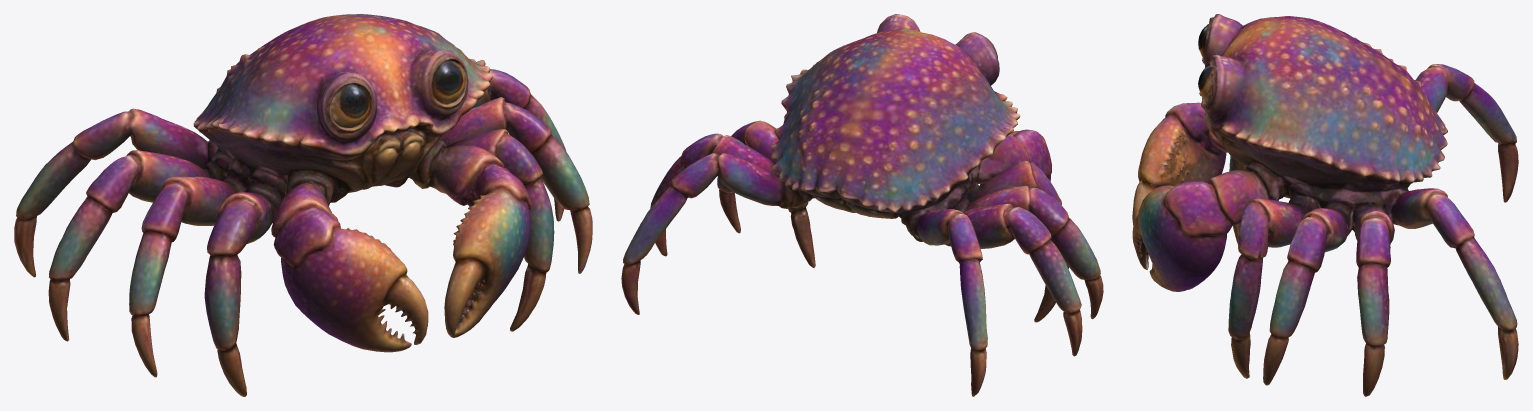
3 views of the same model, side by side, from view 1: azimuth 30°, elevation 25°; view 2: azimuth 150°, elevation 25°; view 3: azimuth 270°, elevation 25° (orthographic). The views are drawn at different scales.
Bounding box in the file's own units: 1.9 × 1.15 × 1.36.
Materials: 1 (1 with a texture image).
